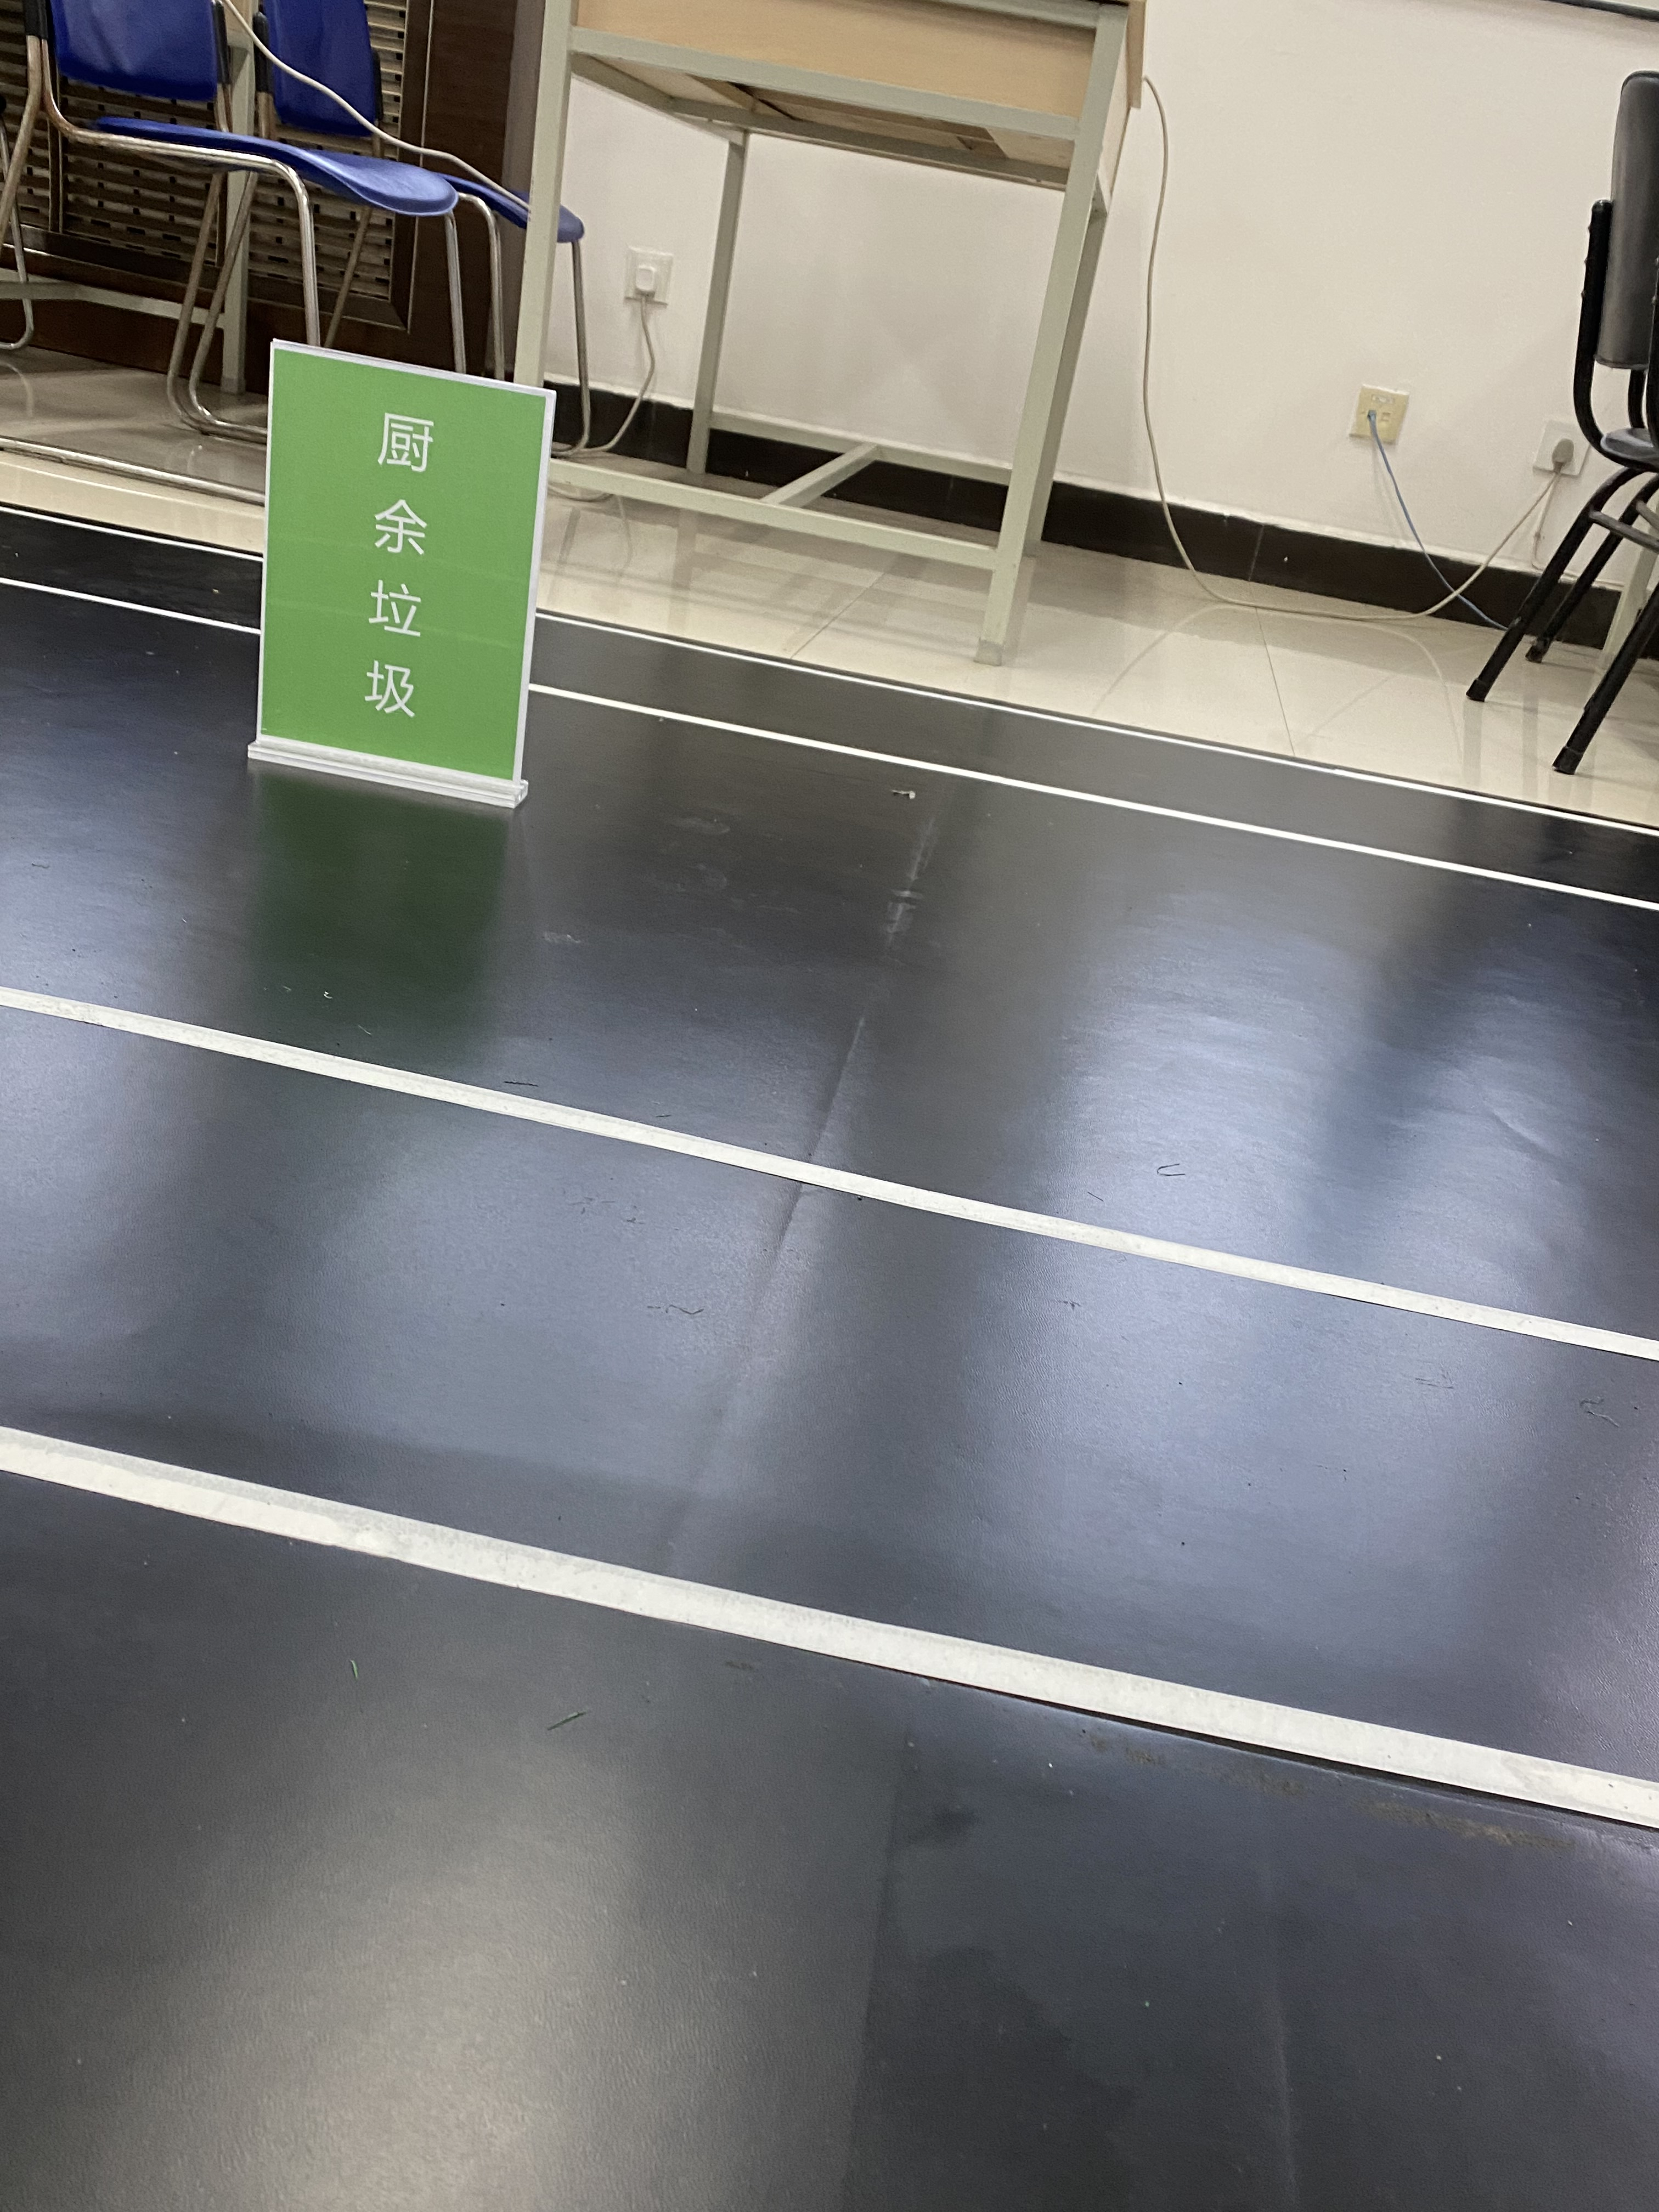green: (295, 371, 497, 742)
